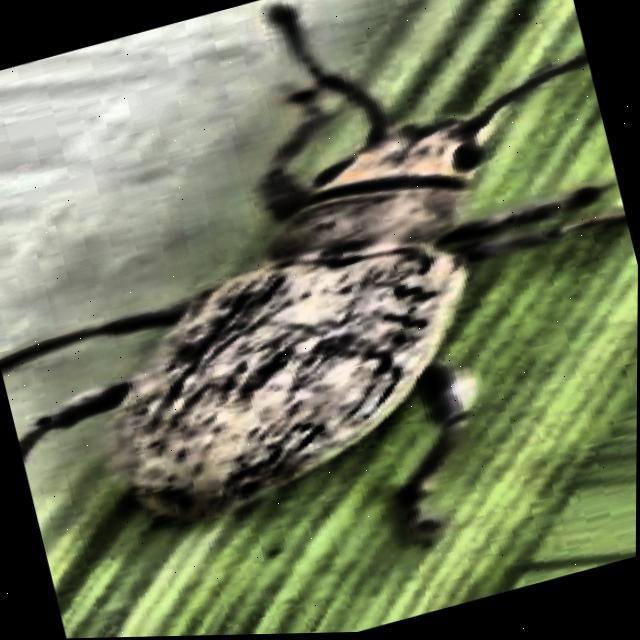Stink bug: (7, 0, 640, 629)
